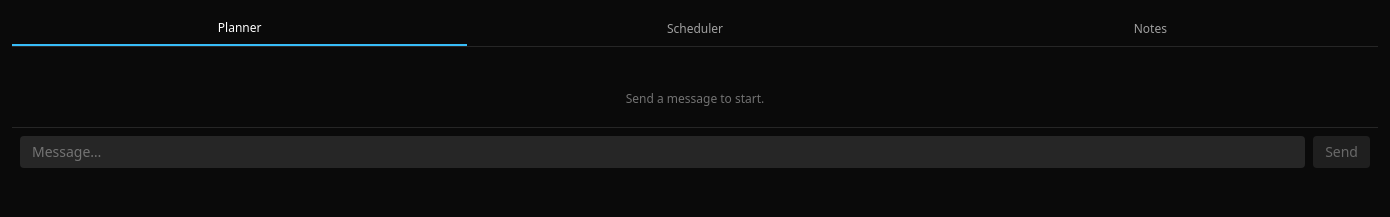
Scenario: ChatPanel › keeps a separate thread per agent
Type "move launch" into the field named "Message planner" at (663, 152), box [20,136,1305,168]
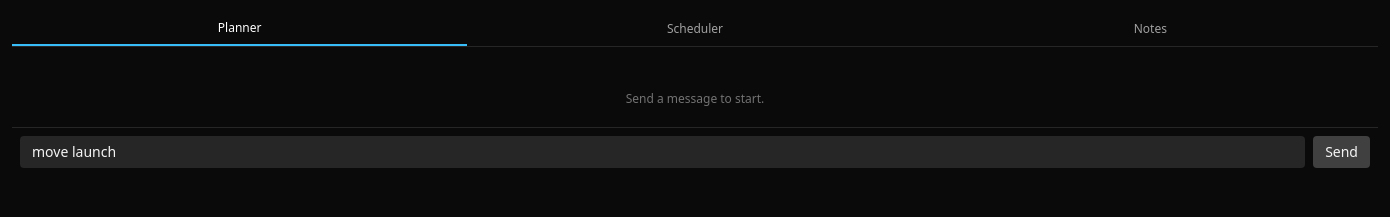
Click the button "Send" at (1342, 152), box [1313,136,1370,168]
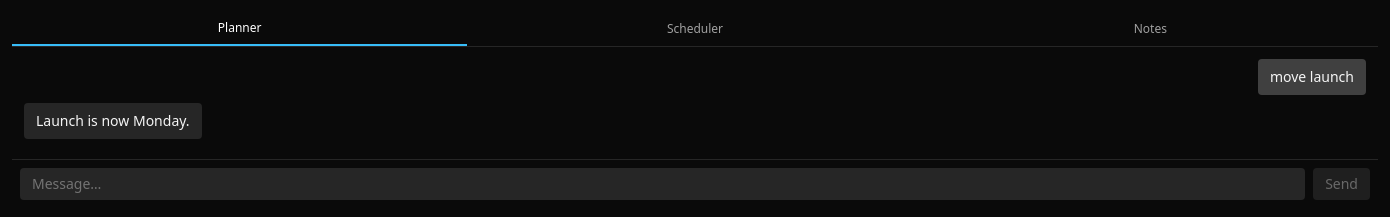
expect the text "Launch is now Monday." is shown: met, box [24,103,202,139]
Click the tab "Notes" at (1150, 29), box [923,12,1378,46]
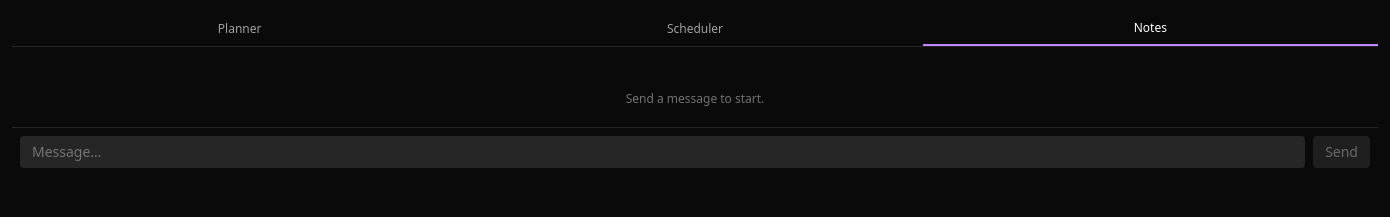
expect the text "Launch is now Monday." is gone: met
expect the text "Send a message to start." is shown: met, box [626,90,764,107]
